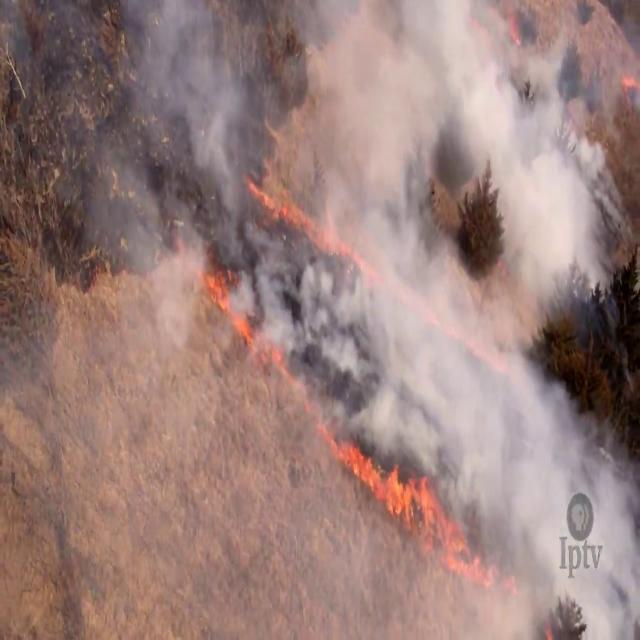Fire: (318, 420, 500, 590), (202, 263, 290, 386), (243, 172, 355, 262), (619, 71, 640, 92)
Smoke: (77, 1, 640, 640)
